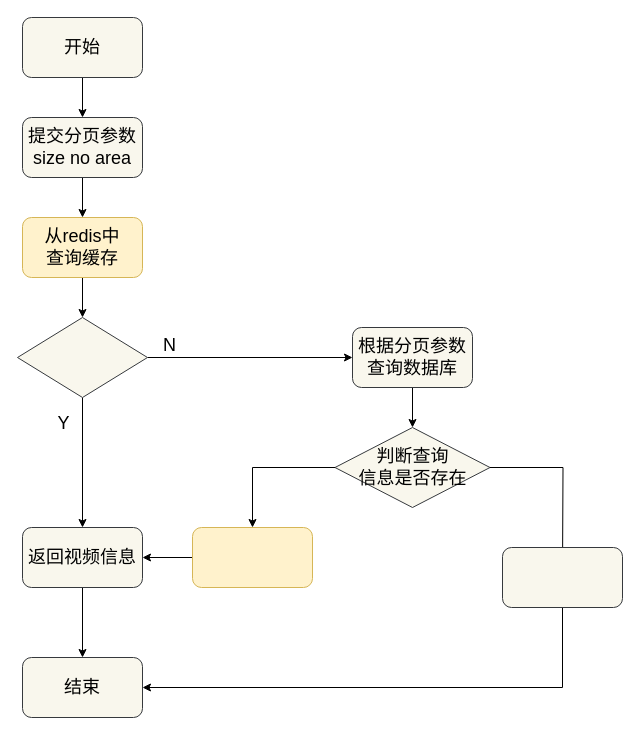
The diagram is 640 pixels wide and 735 high, and some of its shapes have lost their labels. The centre of each missing label's shape, as x and y in pixels:
判断缓存 是否命中: point 82,357
将视频数据 写入redis: point 252,557
返回404: point 562,577
